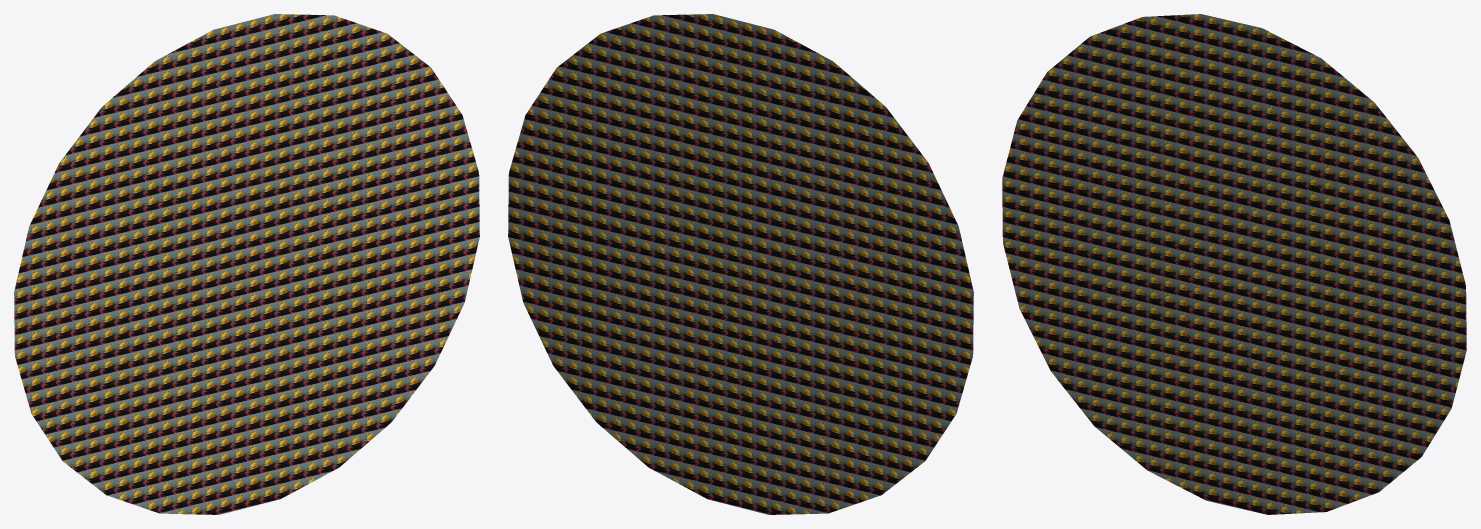
Rendered from circleT.dae.
The picture shows the model from 3 angles, left to right: view 1: azimuth 30°, elevation 25°; view 2: azimuth 150°, elevation 25°; view 3: azimuth 330°, elevation 25°; orthographic projection.
Parts seen in each view (by area): view 1: SketchUp; view 2: SketchUp; view 3: SketchUp.
Part boxes in pixels (box(x1,y1,x2,y2)): SketchUp: box(14, 14, 479, 514); SketchUp: box(508, 14, 973, 514); SketchUp: box(1002, 14, 1466, 514).
Size of the model in its own units: 256 by 256 by 0.
